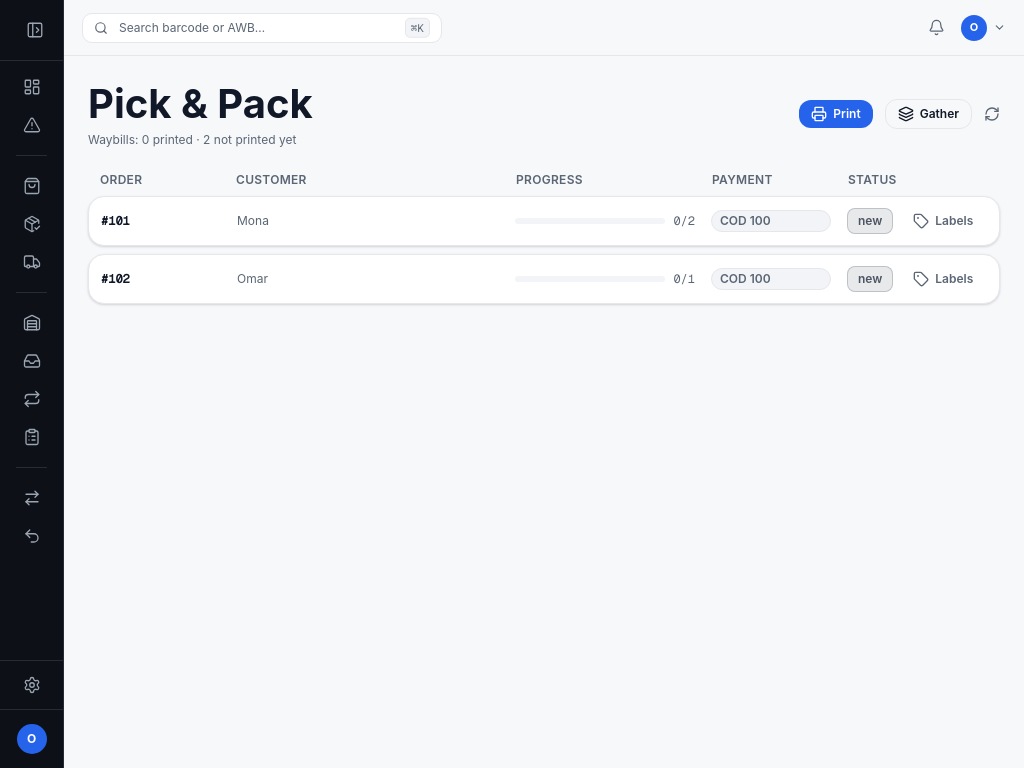
Scenario: B — one Print in Pick & Pack › pp4 — a waybill failure does not block the labels; the error is on the waybill row
Click the button "Print": (836, 114) [799,100,873,128]
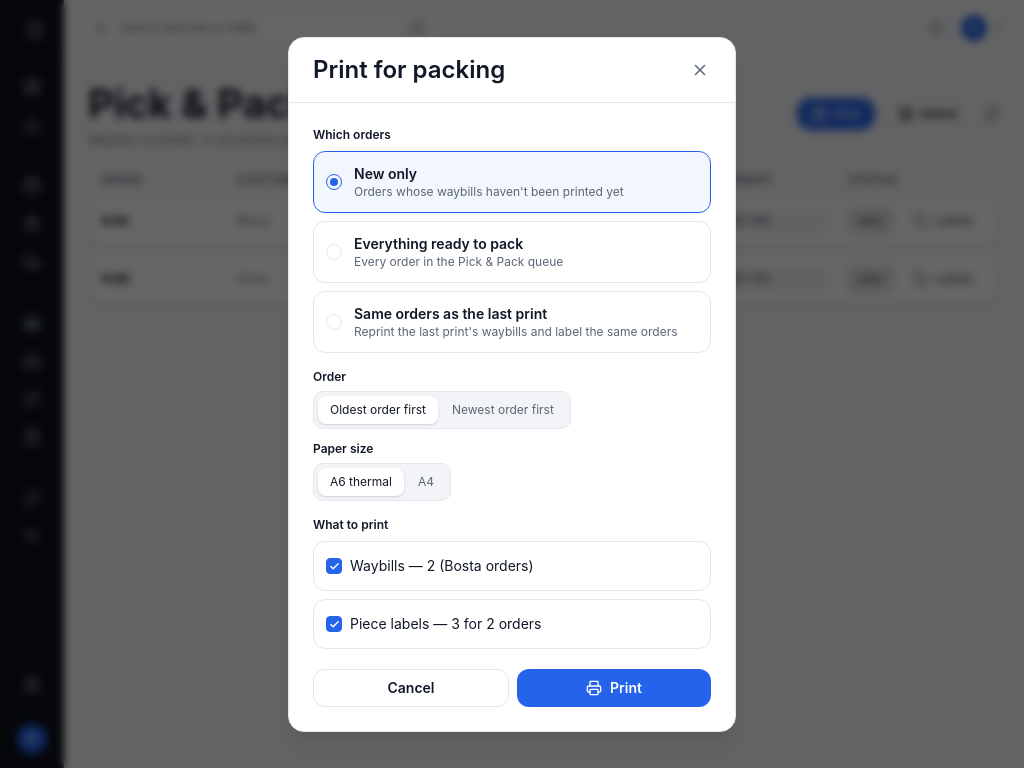
expect the element with test id "print-what-labels" shows "Piece labels — 3": met, box [350,615,542,632]
Click the button "Print": (614, 688) [517,668,711,706]
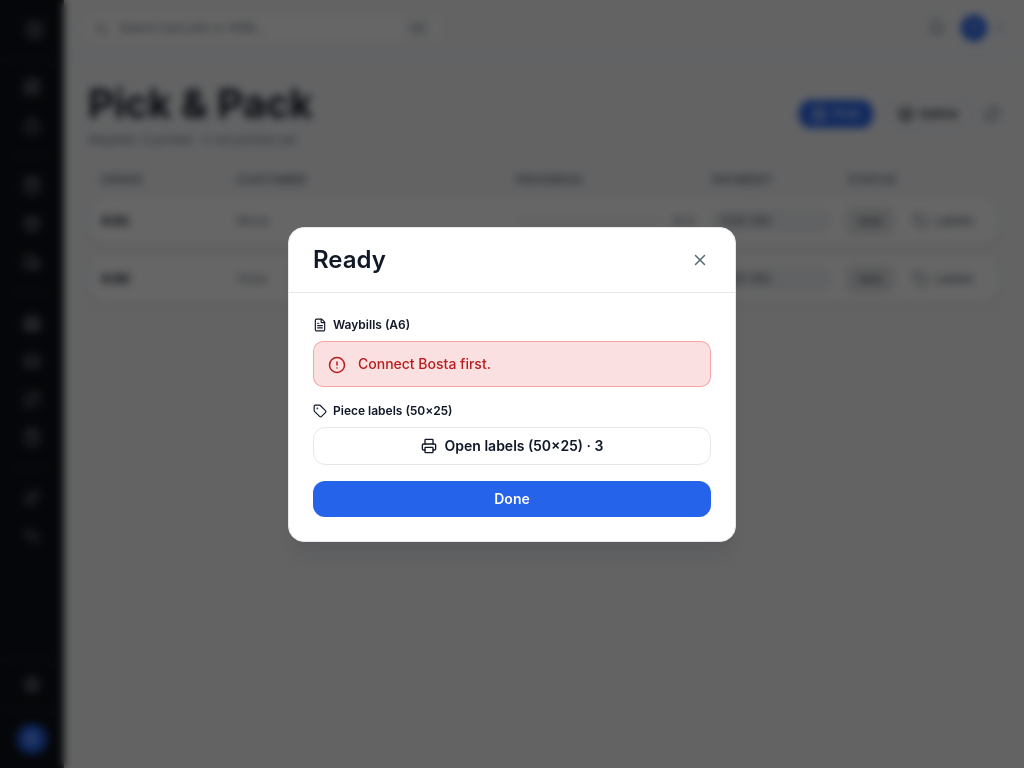
expect the element with test id "print-ready-waybills" reads "Waybills (A6) Connect Bosta first.": met, box [358,354,491,372]
expect the button "Open labels (50×25) · 3" is shown: met, box [313,426,711,464]
